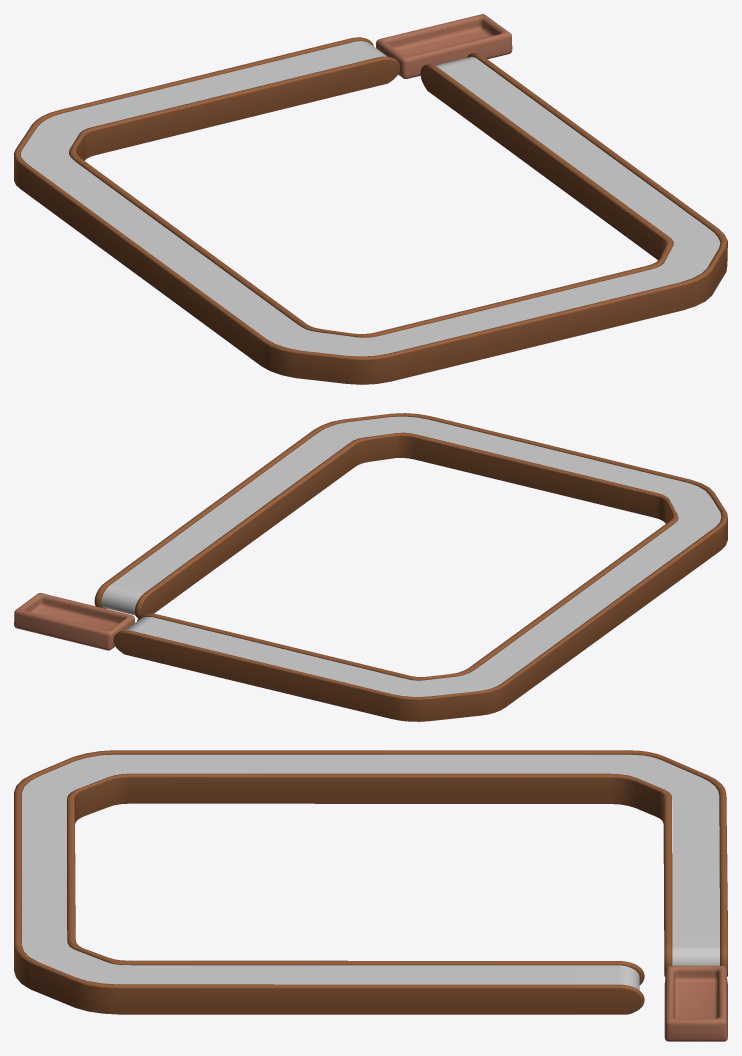
The model's file is Model_taitao_wool.fbx.
3 views of the same model, one above another, from view 1: azimuth 30°, elevation 25°; view 2: azimuth 150°, elevation 25°; view 3: azimuth 270°, elevation 25° (orthographic). The views are drawn at different scales.
Visible parts, largest first — view 1: polySurface25, ray2, Tray; view 2: polySurface25, ray2, Tray; view 3: polySurface25, ray2, Tray.
Part boxes in pixels (x1,y1,x2,y2): polySurface25: (14,37,727,384); ray2: (21,41,720,356); Tray: (376,14,512,78); polySurface25: (94,413,727,721); ray2: (101,416,721,696); Tray: (14,593,134,650); polySurface25: (14,750,727,1014); ray2: (22,754,719,990); Tray: (664,965,727,1041).
Bounding box in the file's own units: 1330 × 68.91 × 1516.
